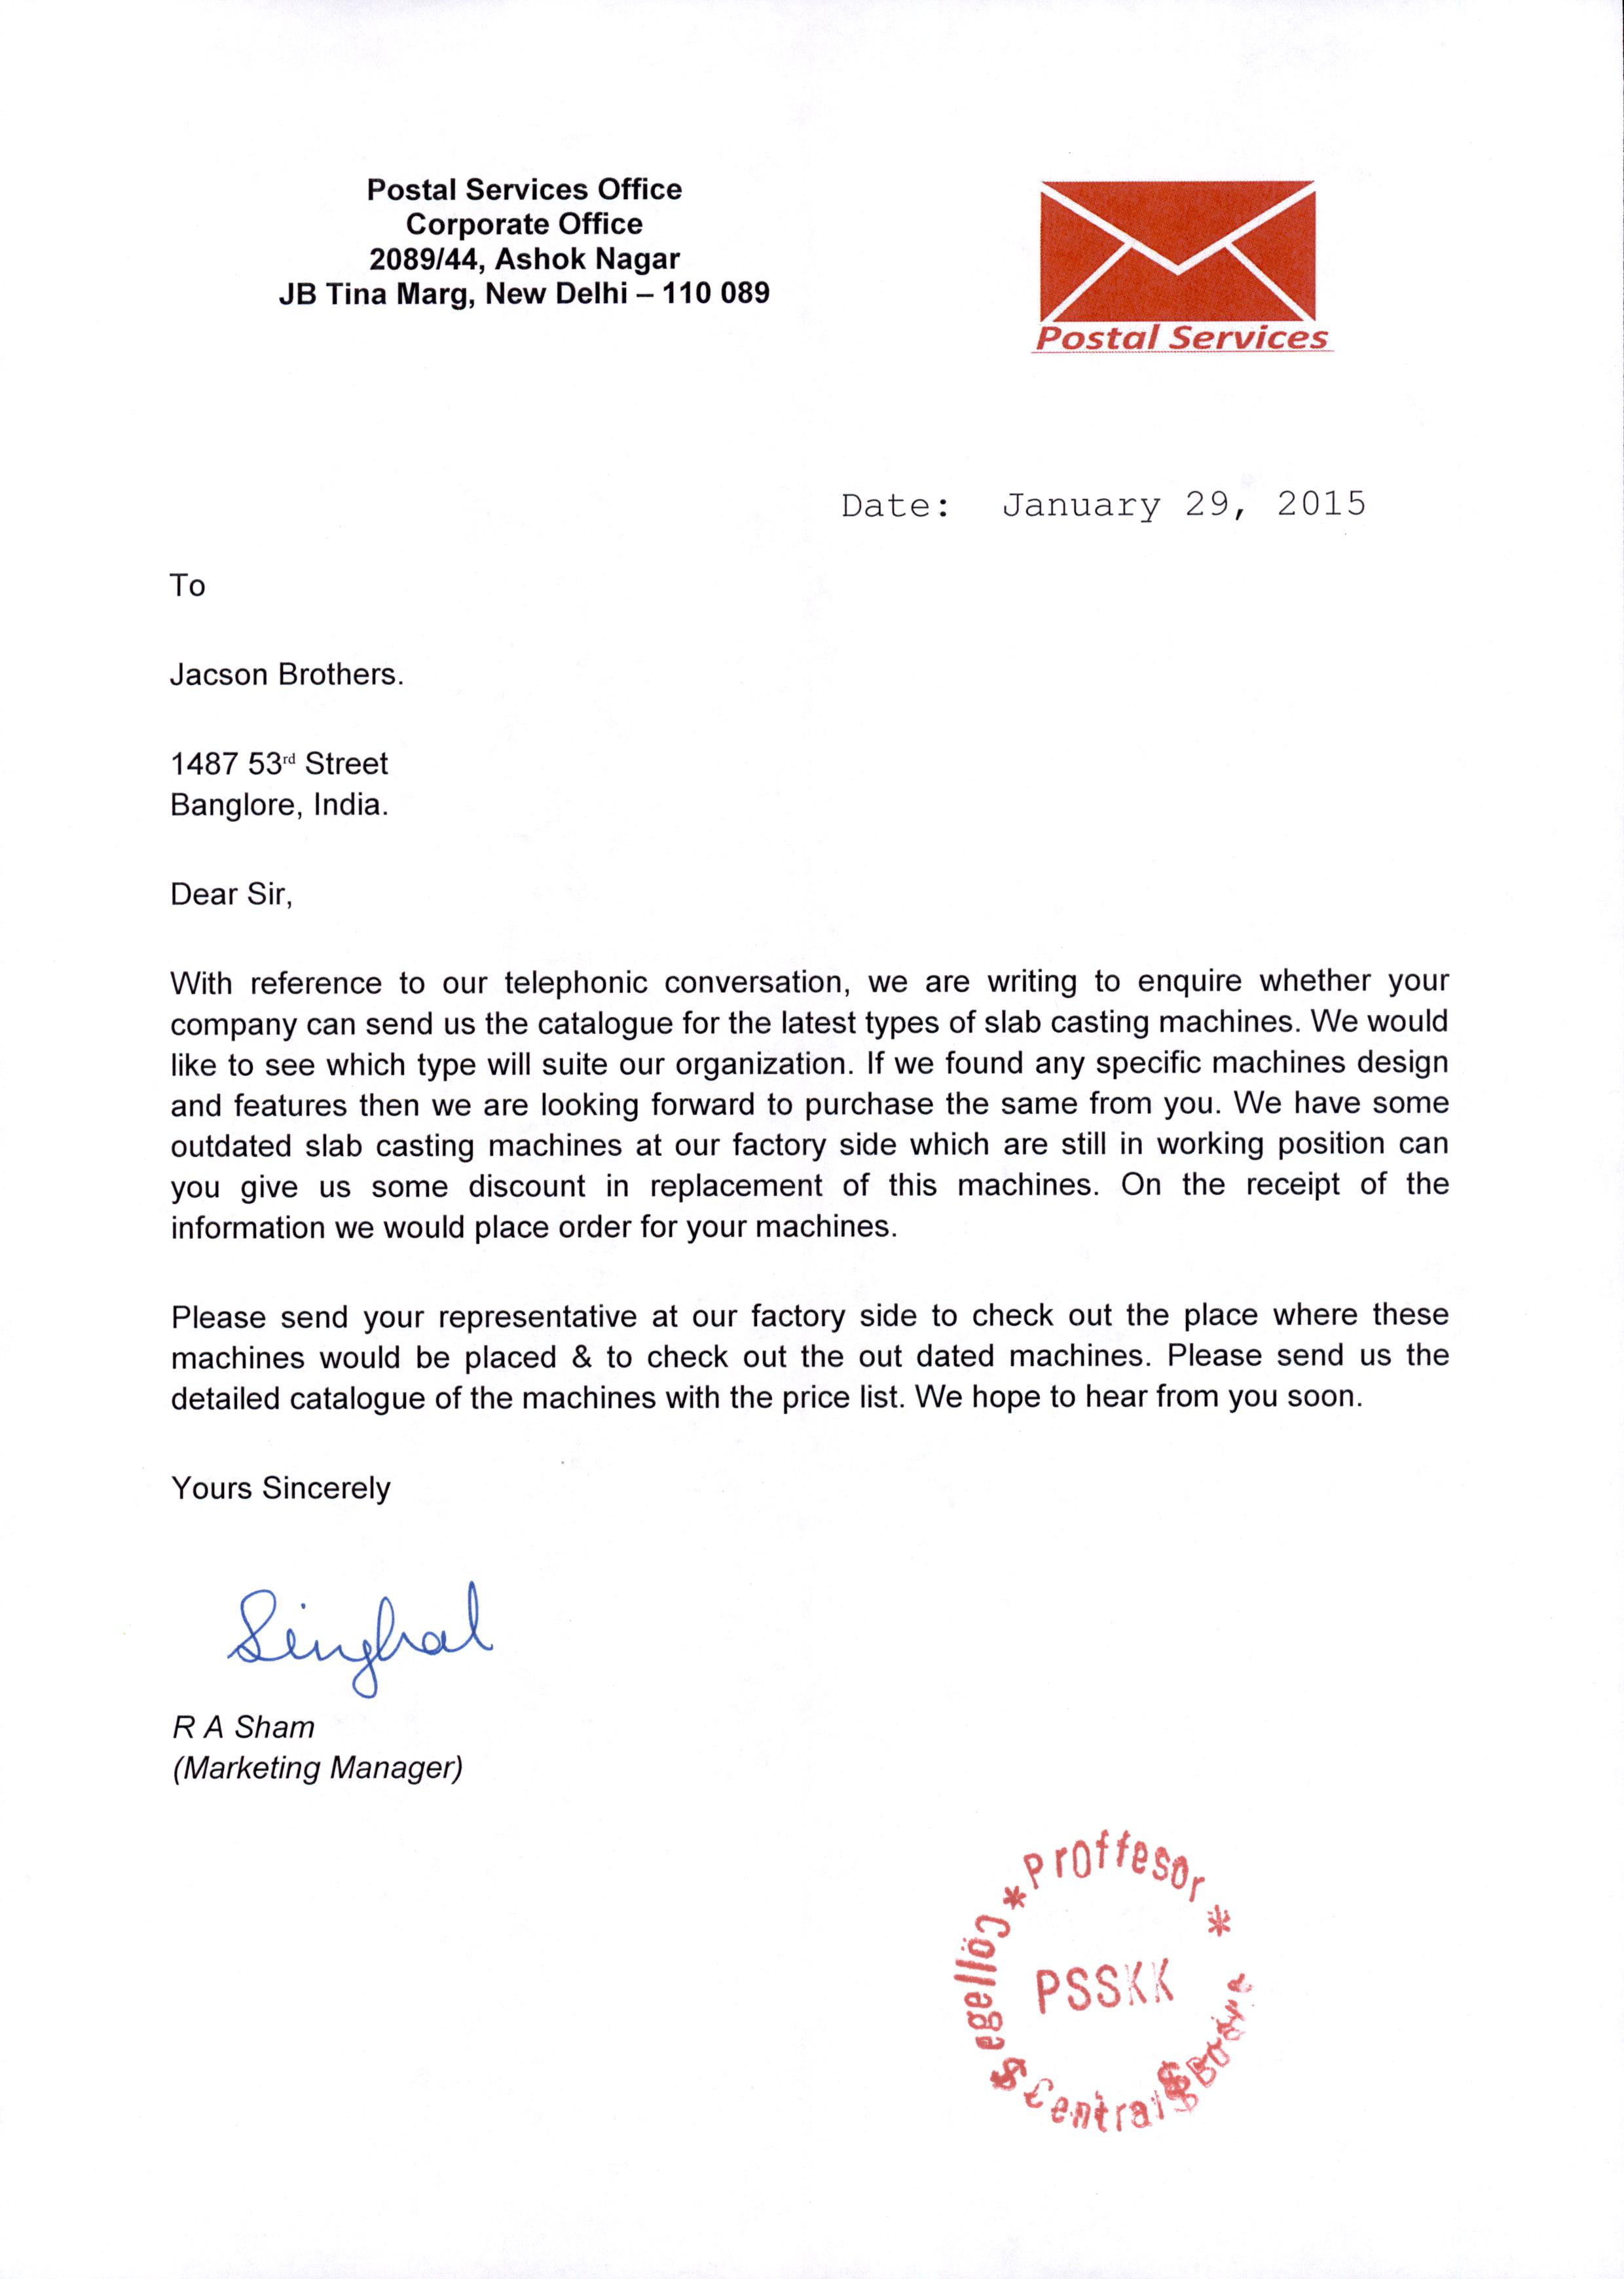Signature: (213, 1576, 506, 1701)
